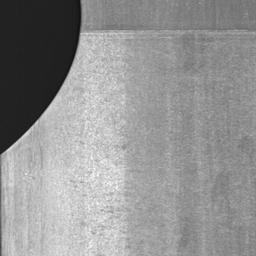Crescent gap: (0, 0, 82, 153)
